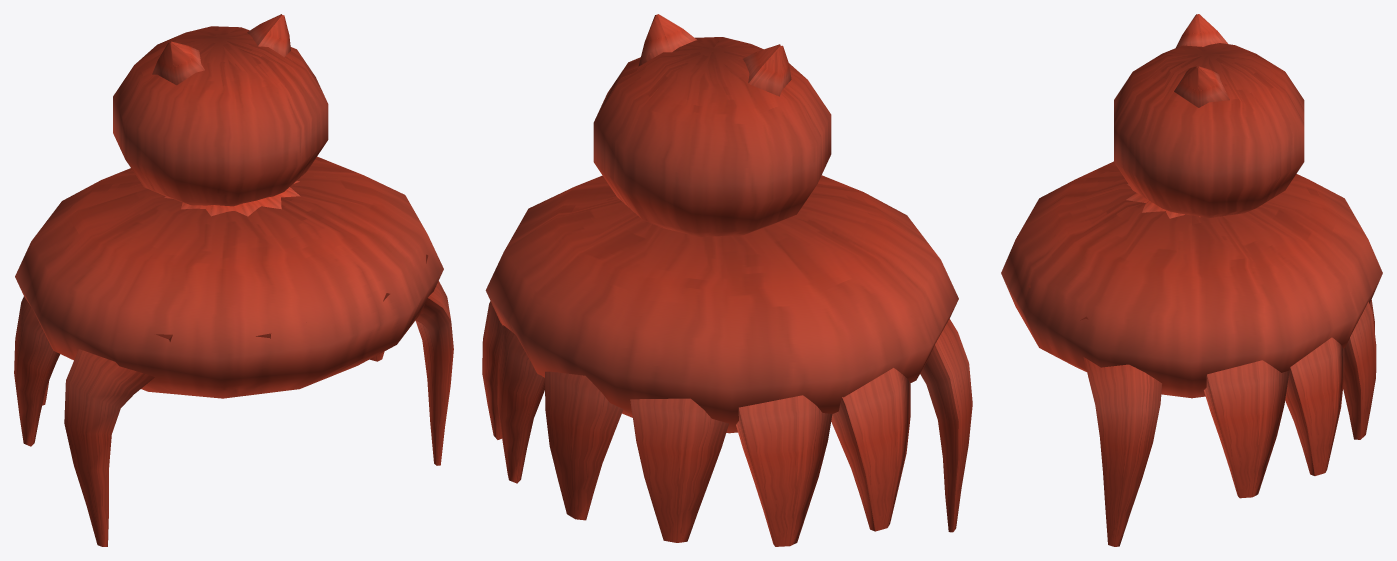
The model's file is bun_red.glb.
3 renders of one model, left to right at view 1: azimuth 30°, elevation 25°; view 2: azimuth 150°, elevation 25°; view 3: azimuth 270°, elevation 25°, orthographic. The views are drawn at different scales.
Visible parts, largest first — view 1: hair_bun_red; view 2: hair_bun_red; view 3: hair_bun_red.
Boxes of the visible parts, x1,y1,x2,y2 form: hair_bun_red: (14, 14, 453, 546); hair_bun_red: (482, 14, 972, 546); hair_bun_red: (1001, 14, 1382, 546).
Bounding box in the file's own units: 1.48 × 1.65 × 1.34.
1 material, 1 textured.
